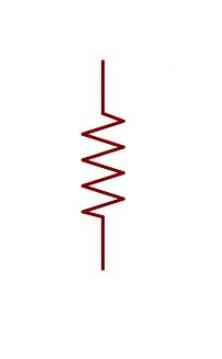resistor: (69, 88, 136, 245)
